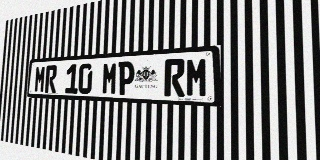0: (78, 63, 93, 94)
1: (65, 64, 79, 94)
M: (186, 57, 208, 98), (102, 62, 118, 95), (34, 66, 46, 93)
P: (117, 61, 135, 95)
R: (164, 58, 185, 97), (45, 65, 57, 93)
